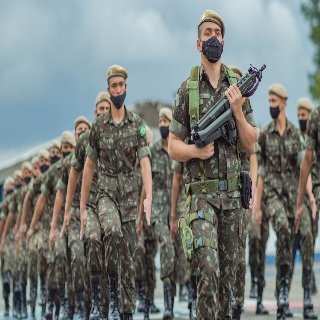rifle: (189, 62, 269, 148)
